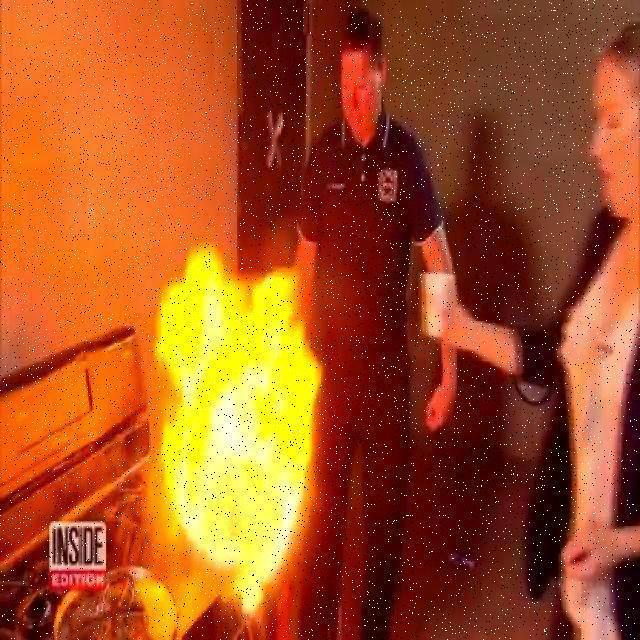smoke: (148, 238, 322, 598)
